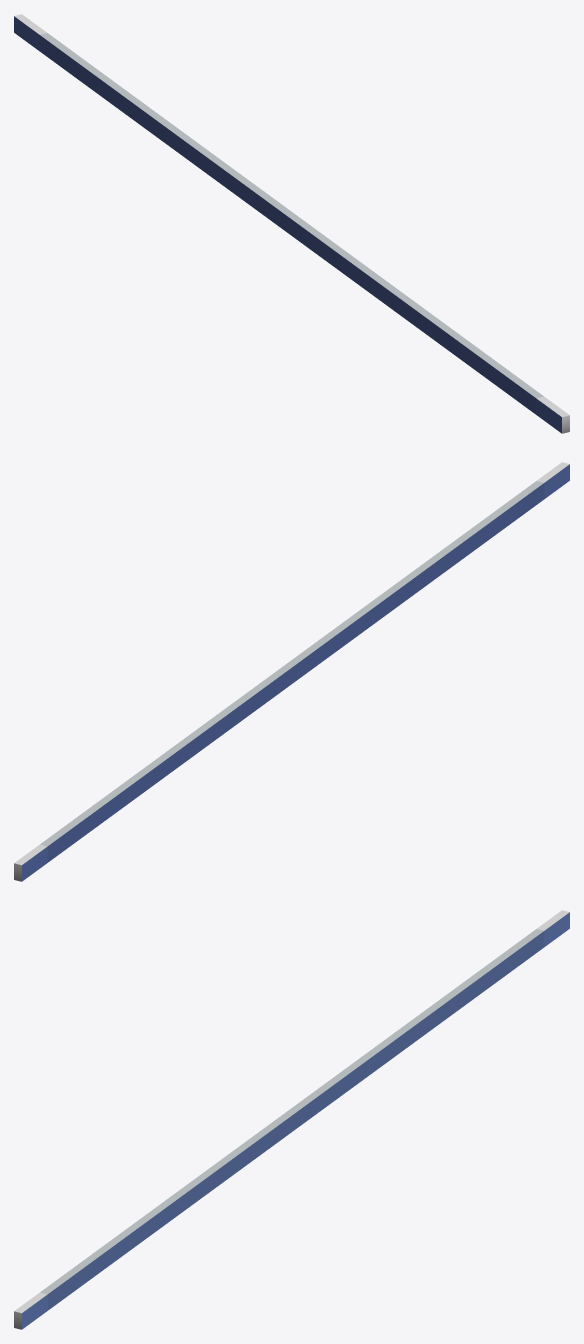
Rendered from Grindrail01.gltf.
3 renders of one model, top to bottom at view 1: azimuth 30°, elevation 25°; view 2: azimuth 150°, elevation 25°; view 3: azimuth 330°, elevation 25°, orthographic.
Parts seen in each view (by area): view 1: Grindrail01Mesh; view 2: Grindrail01Mesh; view 3: Grindrail01Mesh.
Part boxes in pixels (x1=…): Grindrail01Mesh: x1=14, y1=14, x2=569, y2=433; Grindrail01Mesh: x1=14, y1=462, x2=569, y2=881; Grindrail01Mesh: x1=14, y1=910, x2=569, y2=1329.
Bounding box in the file's own units: 0.15 × 0.3 × 18.
